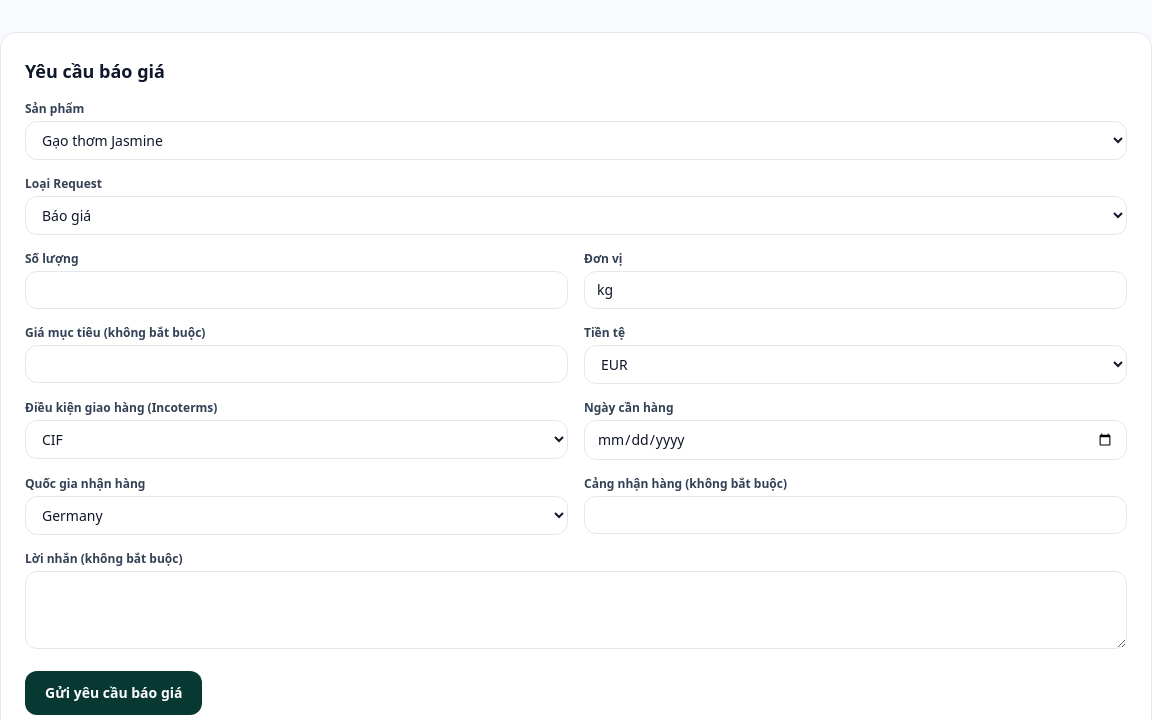
Test case: Form yêu cầu báo giá (F1) › số lượng "abc" bị chặn trước khi gọi API
The image size is (1152, 720).
Step 1. Type "abc" into the field labelled "Số lượng" → (296, 290), box [25,271,568,309]
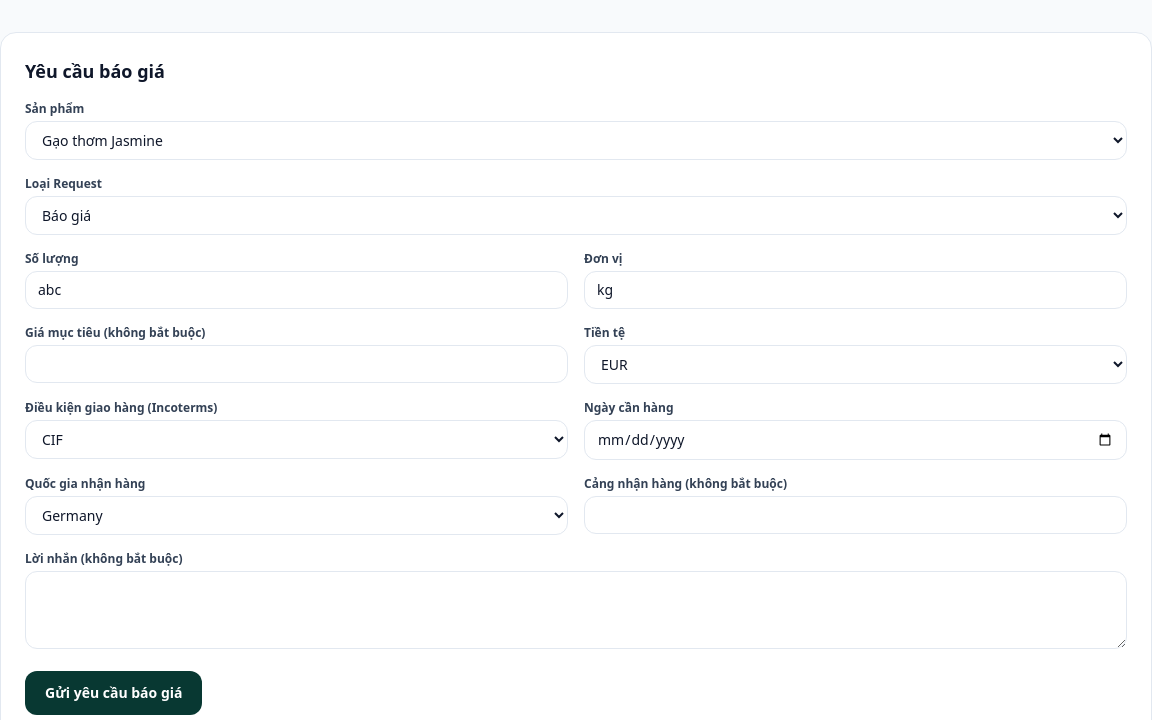
Step 2. Type "2099-01-01" into the date field labelled "Ngày cần hàng" → (856, 440), box [584,420,1127,460]
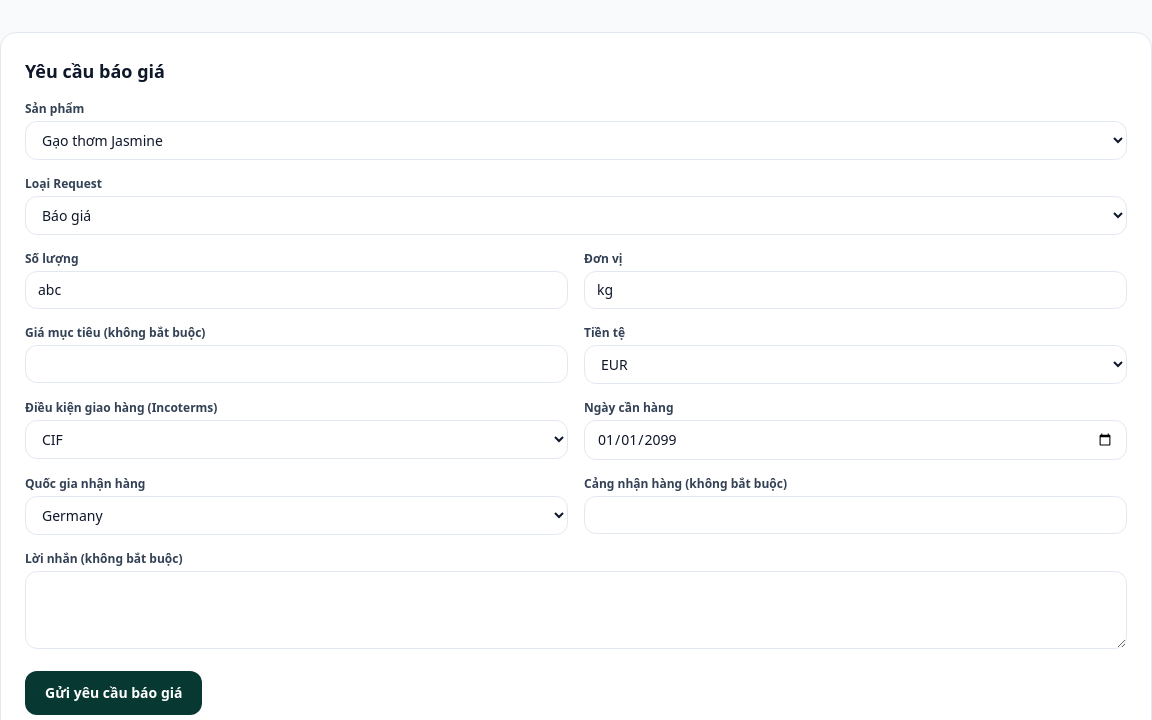
Step 3. Click the button "Gửi yêu cầu báo giá" → (114, 693), box [25,671,202,715]
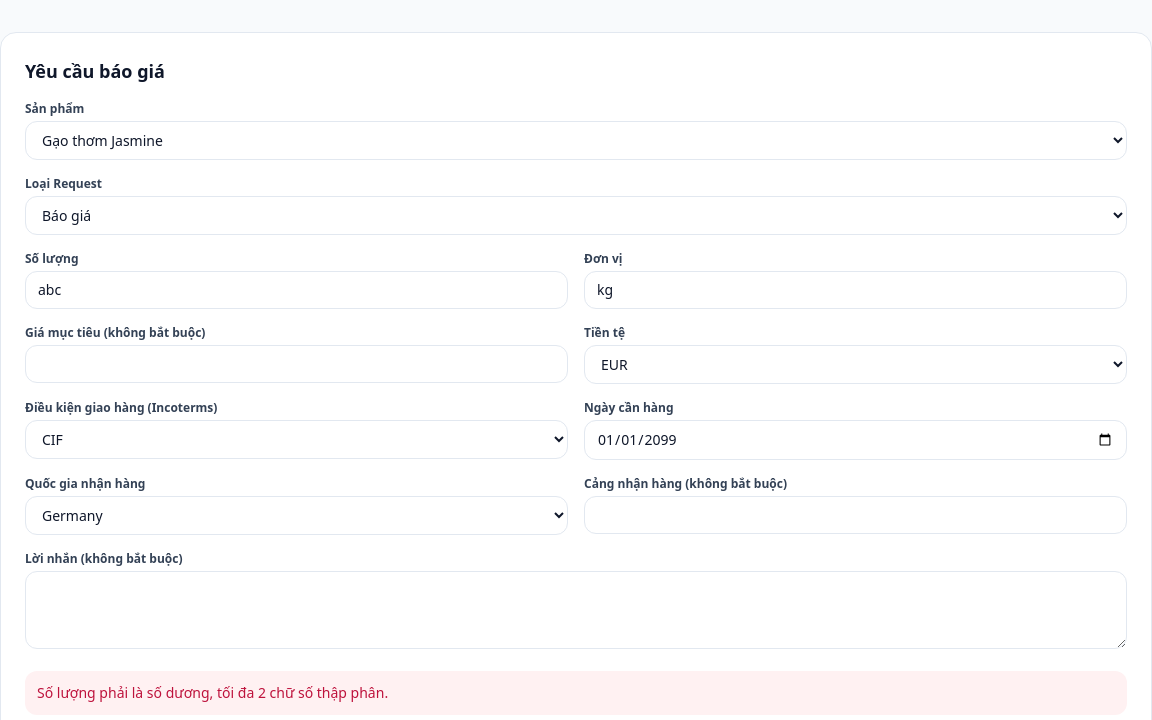
Expected: the message shows "Số lượng phải là số dương", [37,683,388,702]
